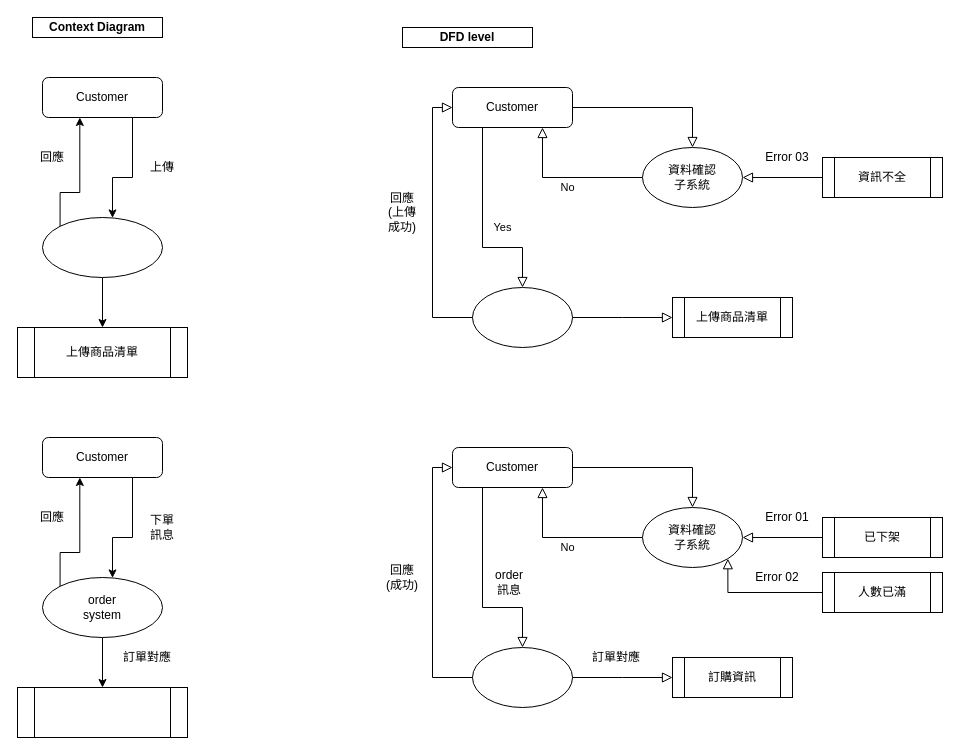
Some shapes in this 960 by 755 pixel diagram are drawn without their labels. The shapes that lost their labels are listed below. From the top down, each one's centre as x and y in pixels, then its label:
(x=102, y=247): post system
(x=522, y=317): 上傳處理 子系統
(x=522, y=677): 下單處理 子系統
(x=102, y=712): 訂單更新對應表
